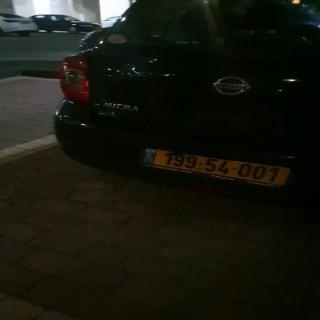LicensePlate: (154, 149, 291, 186)
